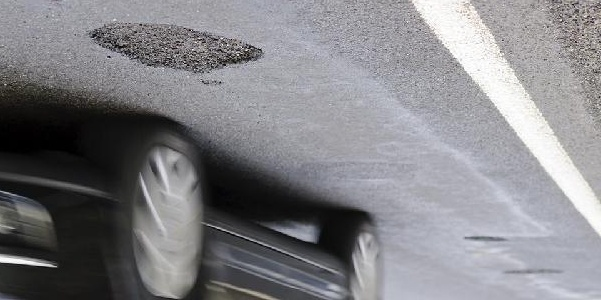pothole: (85, 18, 267, 73)
